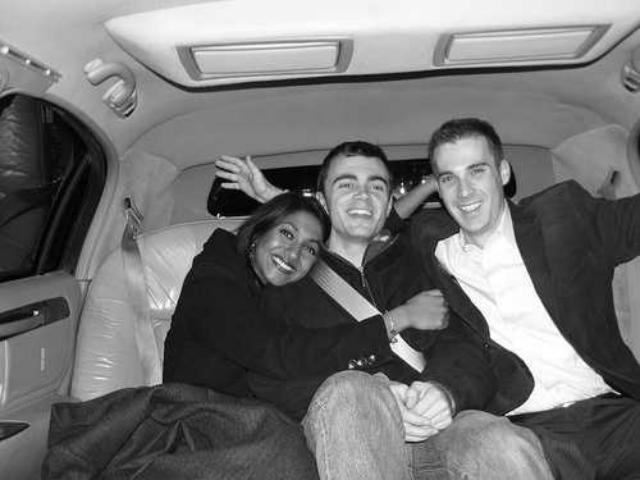SafeDriving: (331, 177, 358, 193), (366, 178, 388, 195), (467, 162, 490, 178), (300, 242, 321, 259), (278, 224, 297, 242), (436, 172, 459, 186)
Seatbelt: (306, 255, 432, 376)
